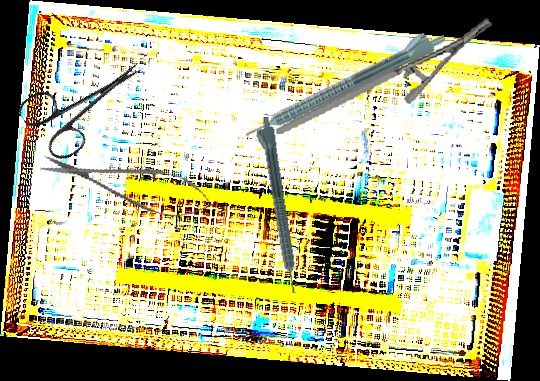Handpiece: (238, 22, 449, 143), (251, 115, 301, 296)
Iris Scissors: (14, 35, 160, 167)
Micro Scissor: (36, 140, 219, 228)
Needle Holder: (263, 17, 505, 135)
